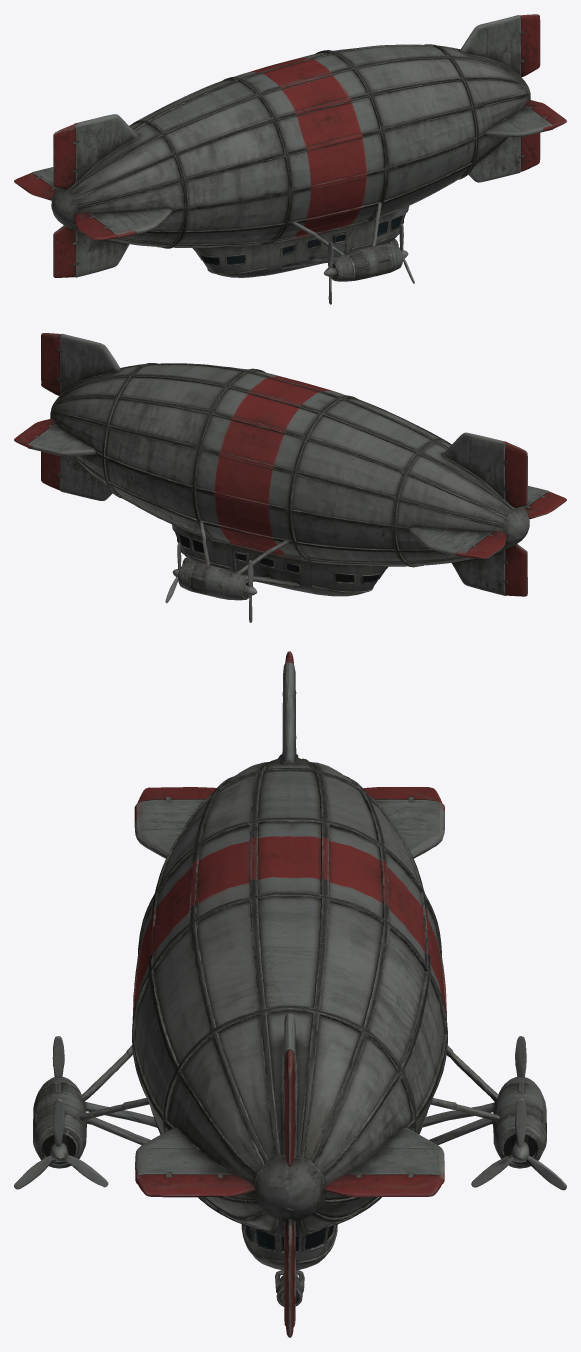
The model's file is patrol_airship__b.glb.
3 views of the same model, one above another, from view 1: azimuth 30°, elevation 25°; view 2: azimuth 150°, elevation 25°; view 3: azimuth 270°, elevation 25° (orthographic). The views are drawn at different scales.
Bounding box in the file's own units: 1.9 × 0.7758 × 1.05.
Materials: 1 (1 with a texture image).
